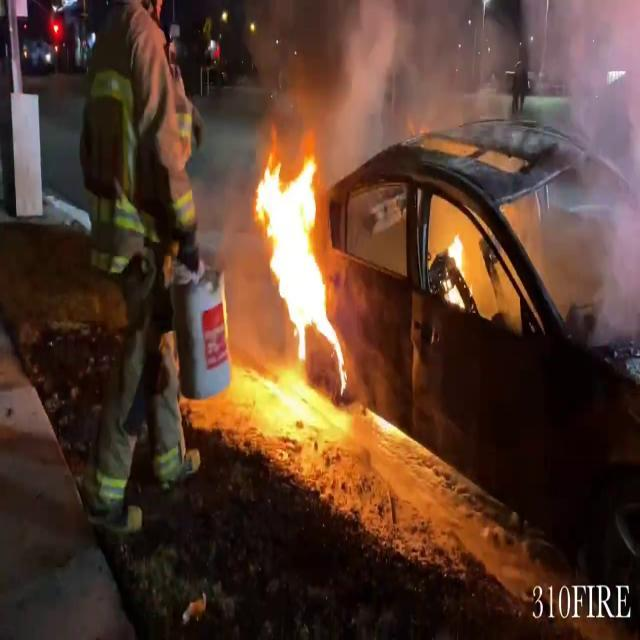Fire: (250, 145, 348, 409)
Smoke: (255, 0, 500, 165), (549, 0, 640, 347)
